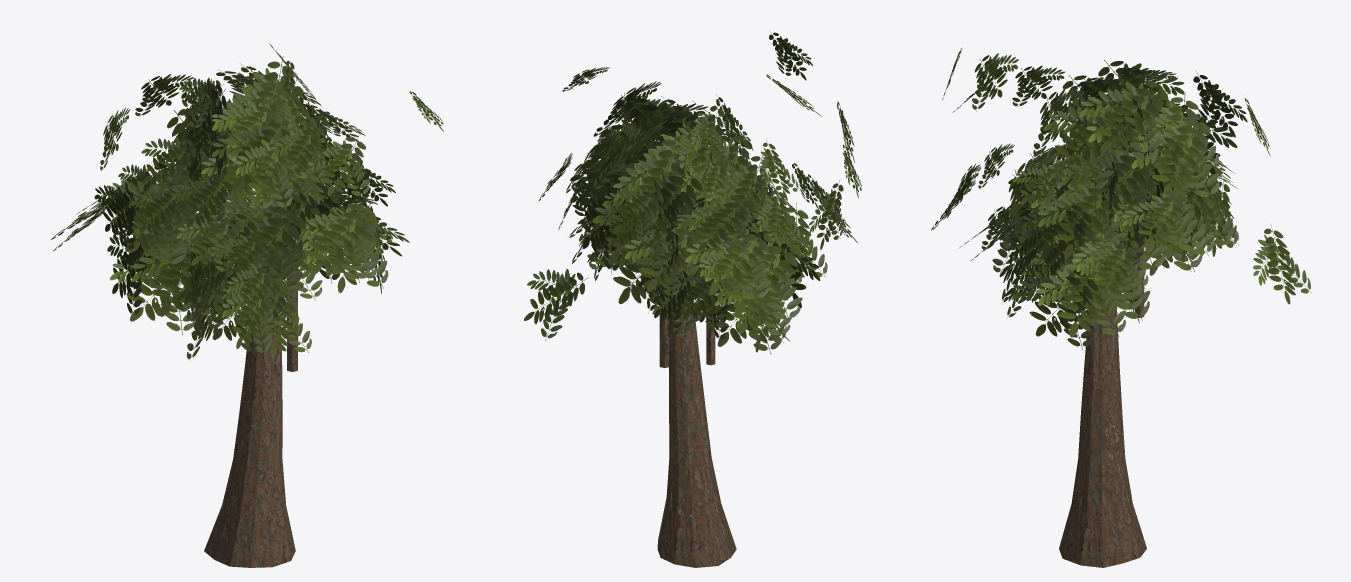
The model's file is prop_tree2.glb.
3 renders of one model, left to right at view 1: azimuth 30°, elevation 25°; view 2: azimuth 150°, elevation 25°; view 3: azimuth 270°, elevation 25°, orthographic. The views are drawn at different scales.
Parts seen in each view (by area): view 1: prop; view 2: prop; view 3: prop.
Boxes of the visible parts, <box> form: prop: <box>51,43,443,567</box>; prop: <box>524,32,861,567</box>; prop: <box>931,48,1311,567</box>.
Bounding box in the file's own units: 4.67 × 6.06 × 4.62.
Materials: 4 (4 with a texture image).
